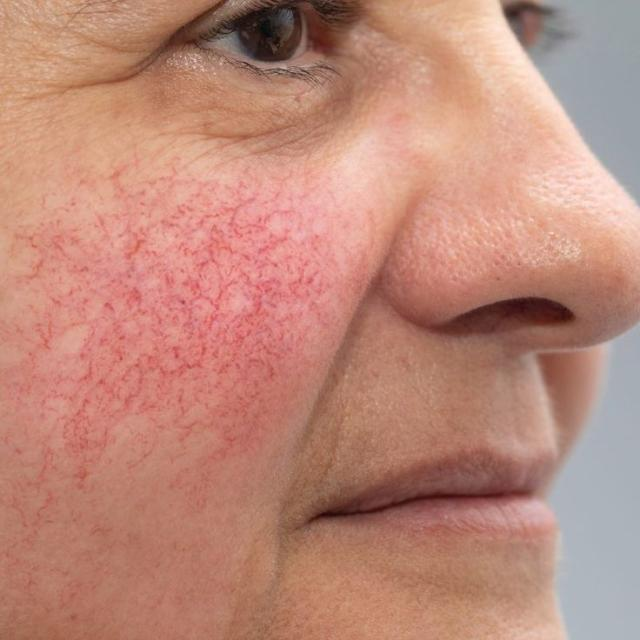Rosacea: (38, 201, 308, 421)
